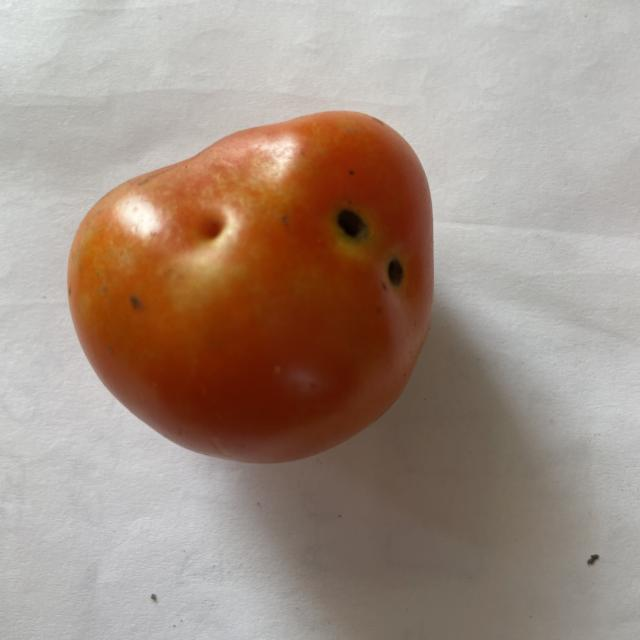fruitworm_bore: (332, 197, 408, 292)
